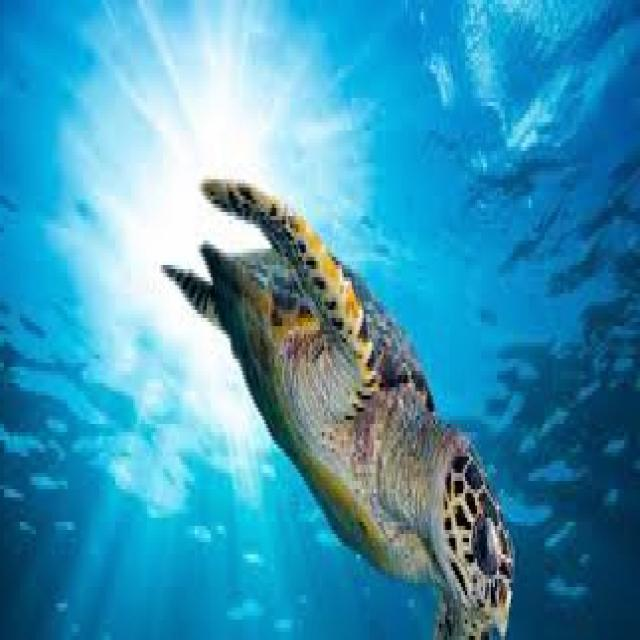turtle: (165, 179, 515, 636)
